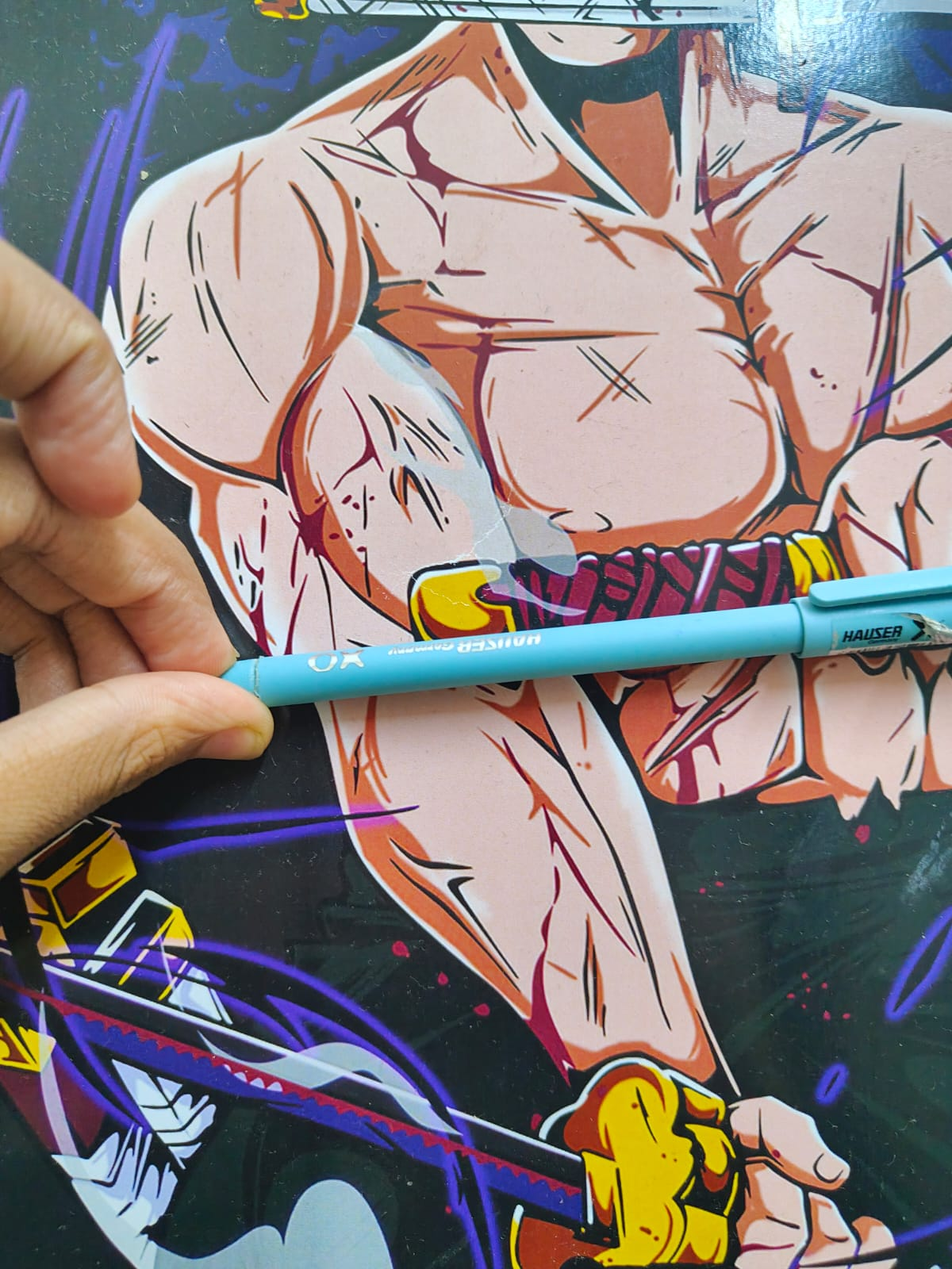pen: (190, 594, 952, 701)
